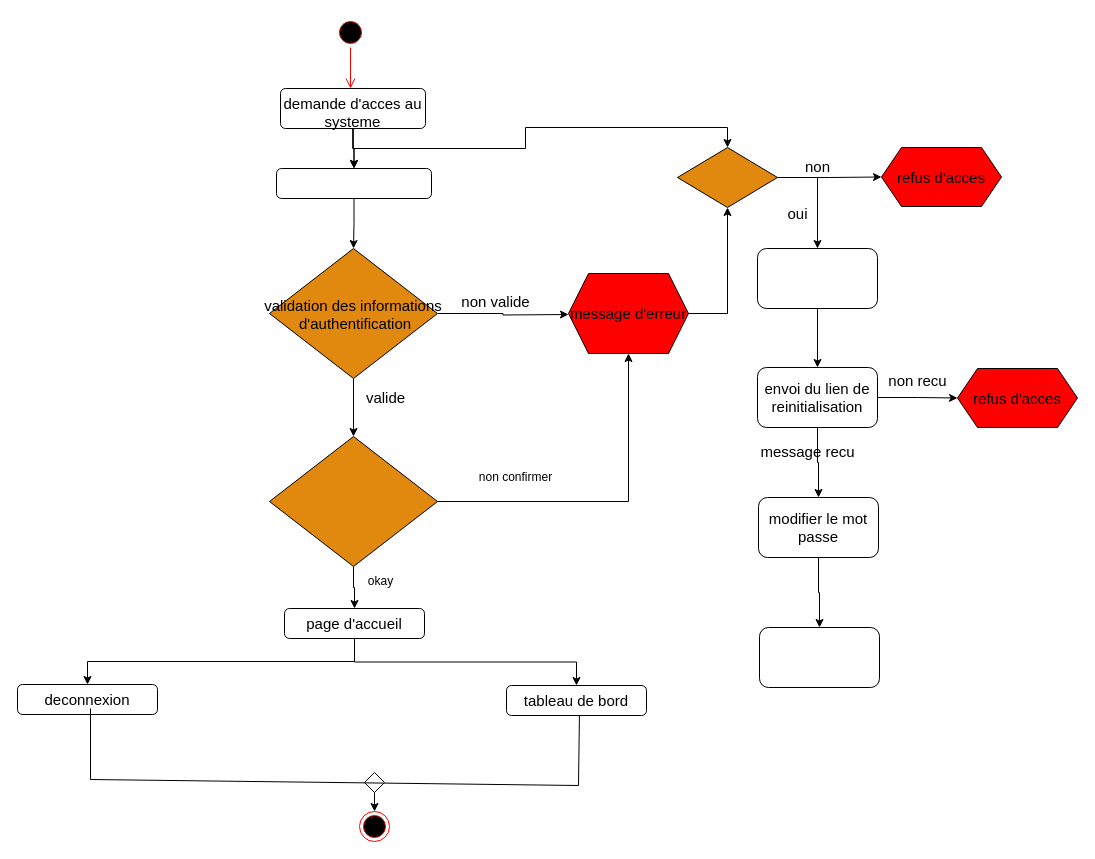
This 1095x859 diagram has some shape labels left out. The shapes that lost their labels are listed below. From the top down, each one's centre as x and y in pixels, then its label:
At [354,183]: "connexion/authentification".
At [727,177]: "mot de pass oublie".
At [817,278]: "demande de reinitialisation du mot passe".
At [353,501]: "double authentification (sms, email...)".
At [819,657]: "renvoi a la page de connexion".
